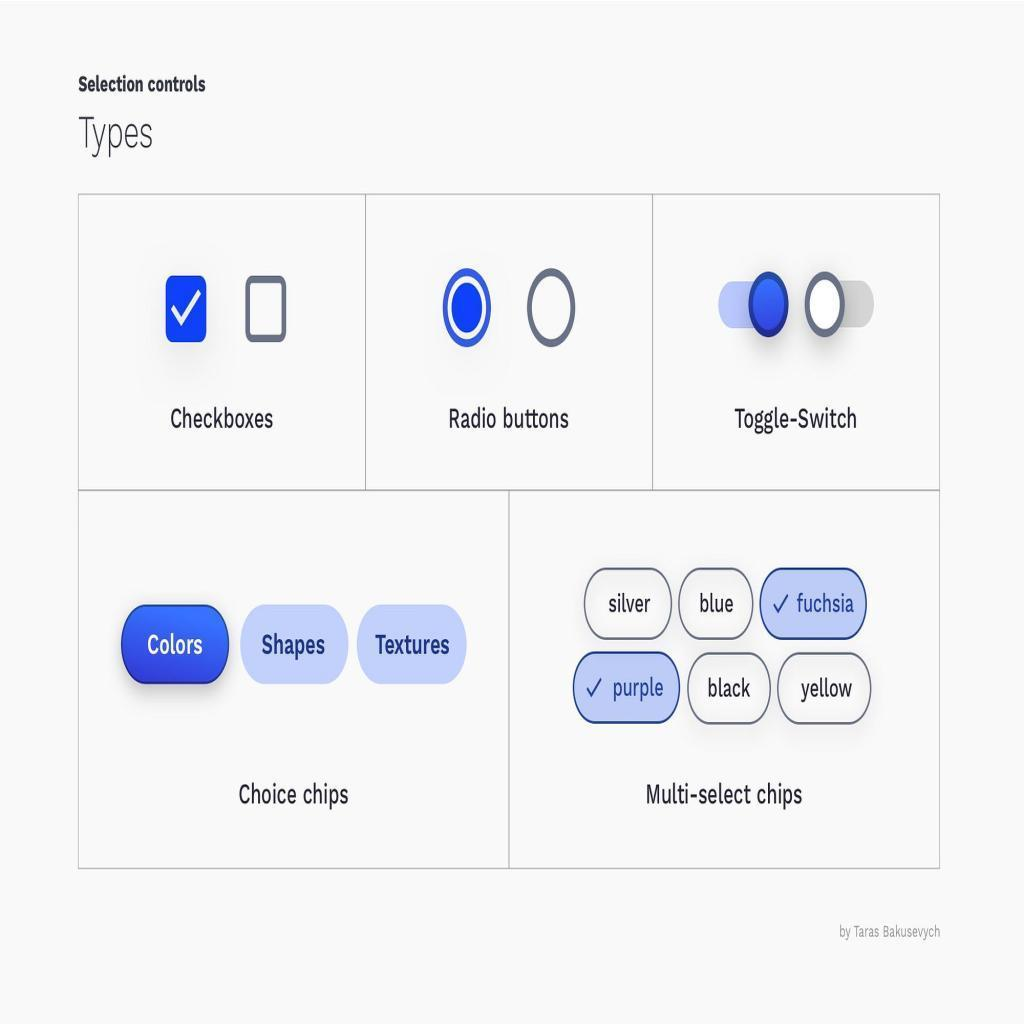button: (357, 604, 468, 686), (241, 603, 350, 686), (123, 605, 230, 686), (573, 650, 683, 727), (763, 569, 868, 643), (777, 654, 872, 725), (585, 569, 674, 641), (686, 652, 773, 725), (679, 570, 756, 640)
checkbox: (246, 276, 289, 344), (166, 275, 208, 342)
label: (644, 783, 806, 811), (77, 114, 158, 163), (733, 406, 860, 437), (447, 405, 573, 434), (236, 782, 353, 812), (166, 403, 278, 434), (79, 74, 209, 96)
radio: (526, 267, 578, 350), (443, 267, 493, 350)
switch: (719, 271, 790, 339), (805, 273, 876, 340)
